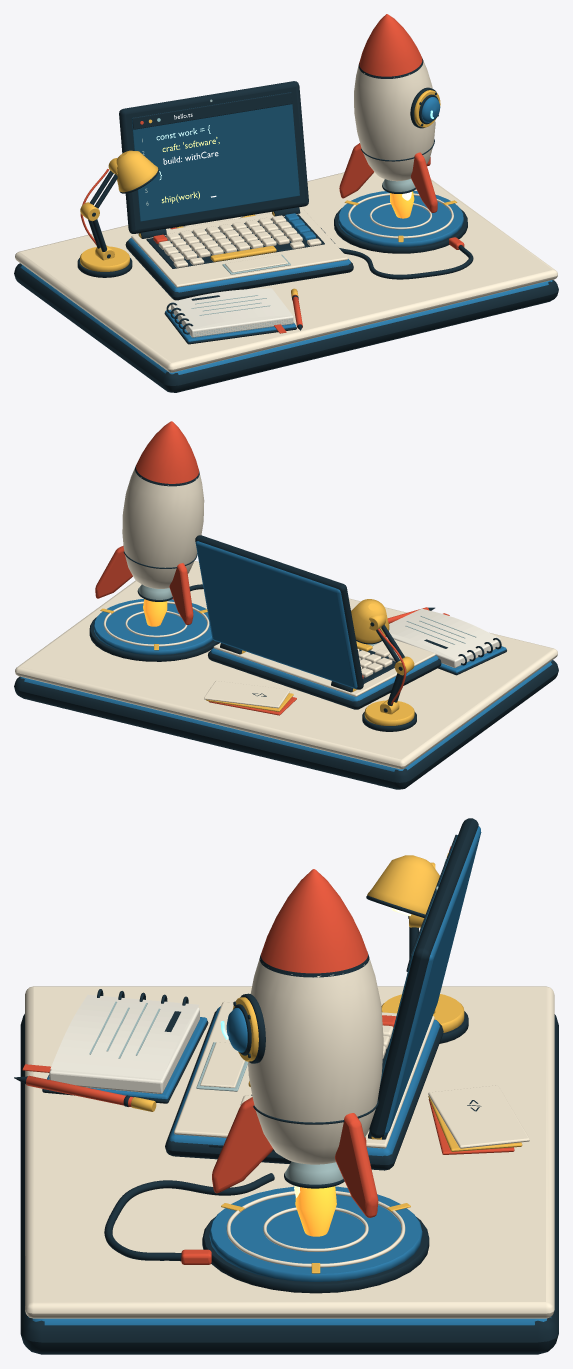
File: portfolio-atelier.glb
3 views of the same model, one above another, from view 1: azimuth 30°, elevation 25°; view 2: azimuth 150°, elevation 25°; view 3: azimuth 270°, elevation 25° (orthographic). The views are drawn at different scales.
Visible parts, largest first — view 1: DeckPorcelainTop, ScreenGlass, AtelierRoot_Atelier_Ink, WorkStation_Atelier_Porcelain, WorkScreenPivot_Atelier_Ink, RocketPorcelainBody, RocketIdle_Atelier_Vermilion, LaunchPadDeck, WorkStation_Atelier_Ink, NotebookTopPage, DeckBlueFascia, WorkStation_Atelier_EnamelBlue (+11 smaller); view 2: DeckPorcelainTop, LidBlueShell, AtelierRoot_Atelier_Ink, RocketPorcelainBody, RocketIdle_Atelier_Vermilion, LaunchPadDeck, NotebookTopPage, WorkStation_Atelier_Porcelain, DeckBlueFascia, WorkStation_Atelier_Ink, WorkScreenPivot_Atelier_Ink, ReferenceCard.002 (+9 smaller); view 3: DeckPorcelainTop, AtelierRoot_Atelier_Ink, RocketPorcelainBody, RocketIdle_Atelier_Vermilion, LaunchPadDeck, NotebookTopPage, WorkStation_Atelier_Porcelain, WorkScreenPivot_Atelier_Ink, ReferenceCard.002, LidBlueShell, DeckBlueFascia, LaunchPadFoot (+13 smaller).
Part boxes in pixels (x1=…): DeckPorcelainTop: x1=15, y1=172, x2=557, y2=372; ScreenGlass: x1=131, y1=92, x2=299, y2=221; AtelierRoot_Atelier_Ink: x1=14, y1=245, x2=558, y2=392; WorkStation_Atelier_Porcelain: x1=131, y1=208, x2=347, y2=287; WorkScreenPivot_Atelier_Ink: x1=119, y1=81, x2=308, y2=233; RocketPorcelainBody: x1=354, y1=61, x2=435, y2=181; RocketIdle_Atelier_Vermilion: x1=339, y1=14, x2=437, y2=212; LaunchPadDeck: x1=338, y1=191, x2=463, y2=246; WorkStation_Atelier_Ink: x1=125, y1=207, x2=353, y2=300; NotebookTopPage: x1=170, y1=288, x2=292, y2=329; DeckBlueFascia: x1=20, y1=263, x2=552, y2=374; WorkStation_Atelier_EnamelBlue: x1=128, y1=213, x2=350, y2=292; DeckPorcelainTop: x1=15, y1=561, x2=557, y2=769; LidBlueShell: x1=195, y1=541, x2=357, y2=688; AtelierRoot_Atelier_Ink: x1=14, y1=584, x2=558, y2=789; RocketPorcelainBody: x1=122, y1=468, x2=204, y2=588; RocketIdle_Atelier_Vermilion: x1=95, y1=421, x2=198, y2=624; LaunchPadDeck: x1=94, y1=599, x2=212, y2=655; NotebookTopPage: x1=389, y1=608, x2=500, y2=659; WorkStation_Atelier_Porcelain: x1=213, y1=637, x2=435, y2=696; DeckBlueFascia: x1=20, y1=660, x2=552, y2=771; WorkStation_Atelier_Ink: x1=208, y1=643, x2=441, y2=709; WorkScreenPivot_Atelier_Ink: x1=195, y1=535, x2=363, y2=689; ReferenceCard.002: x1=204, y1=681, x2=290, y2=708; DeckPorcelainTop: x1=25, y1=986, x2=554, y2=1318; AtelierRoot_Atelier_Ink: x1=20, y1=1014, x2=558, y2=1354; RocketPorcelainBody: x1=248, y1=958, x2=383, y2=1164; RocketIdle_Atelier_Vermilion: x1=212, y1=869, x2=378, y2=1217; LaunchPadDeck: x1=209, y1=1186, x2=422, y2=1281; NotebookTopPage: x1=50, y1=994, x2=199, y2=1079; WorkStation_Atelier_Porcelain: x1=174, y1=1001, x2=434, y2=1148; WorkScreenPivot_Atelier_Ink: x1=369, y1=818, x2=478, y2=1138; ReferenceCard.002: x1=428, y1=1085, x2=529, y2=1148; LidBlueShell: x1=384, y1=826, x2=481, y2=1134; DeckBlueFascia: x1=28, y1=1316, x2=551, y2=1325; LaunchPadFoot: x1=202, y1=1217, x2=429, y2=1293.
Bounding box in the file's own units: 5.3 × 3.29 × 3.74.
